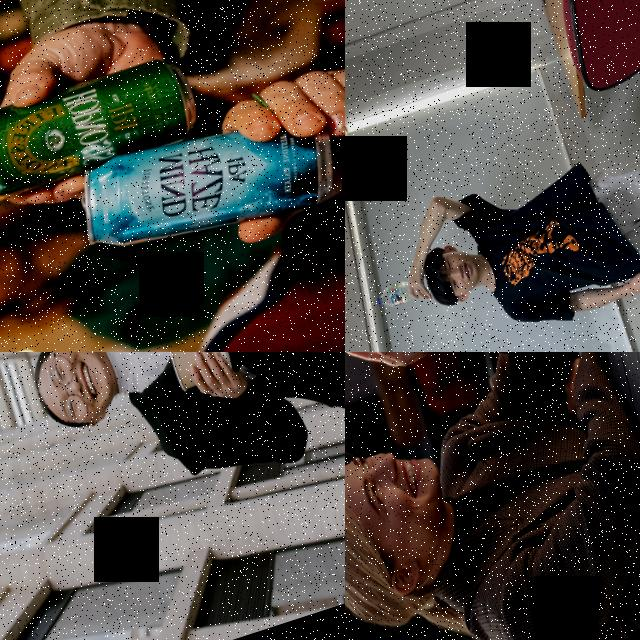bottle: (373, 274, 433, 312)
can: (64, 91, 345, 275), (0, 47, 206, 214)
cup: (160, 352, 238, 399)
